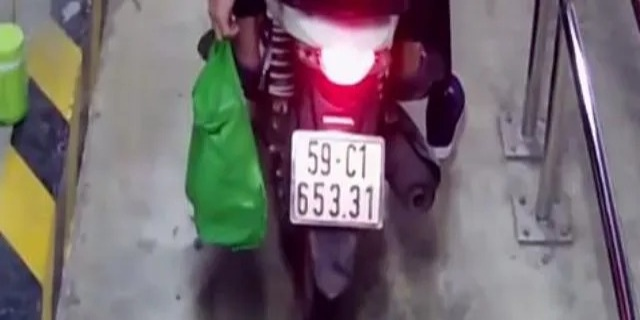bien_so: (291, 131, 384, 230)
